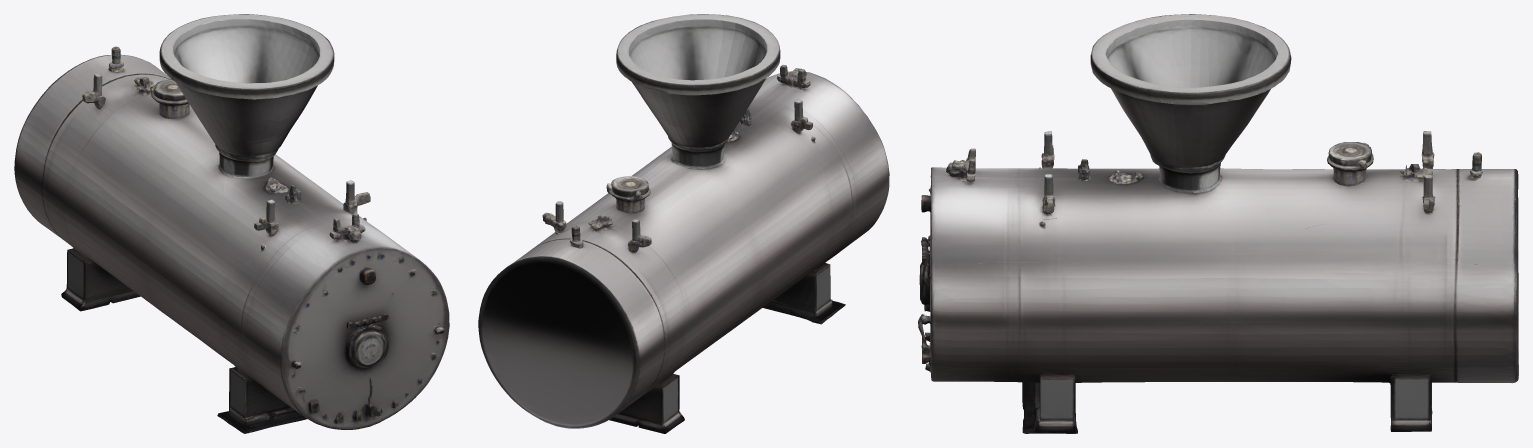
Rendered from edit.glb.
3 renders of one model, left to right at view 1: azimuth 30°, elevation 25°; view 2: azimuth 150°, elevation 25°; view 3: azimuth 270°, elevation 25°, orthographic. The views are drawn at different scales.
Visible parts, largest first — view 1: world; view 2: world; view 3: world.
Part boxes in pixels (x1,y1,x2,y2): world: [14, 14, 449, 433]; world: [478, 14, 889, 433]; world: [918, 14, 1518, 433].
Bounding box in the file's own units: 0.3508 × 0.6083 × 0.9776.
1 material, 1 textured.
